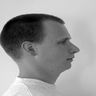ear: (17, 35, 45, 63)
